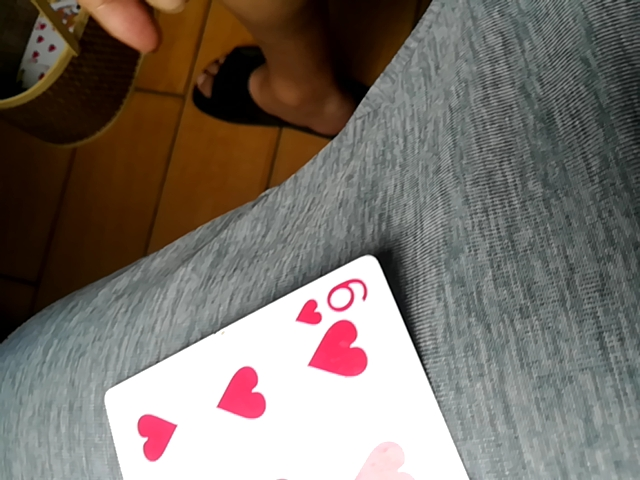hx 6: (108, 250, 481, 479)
